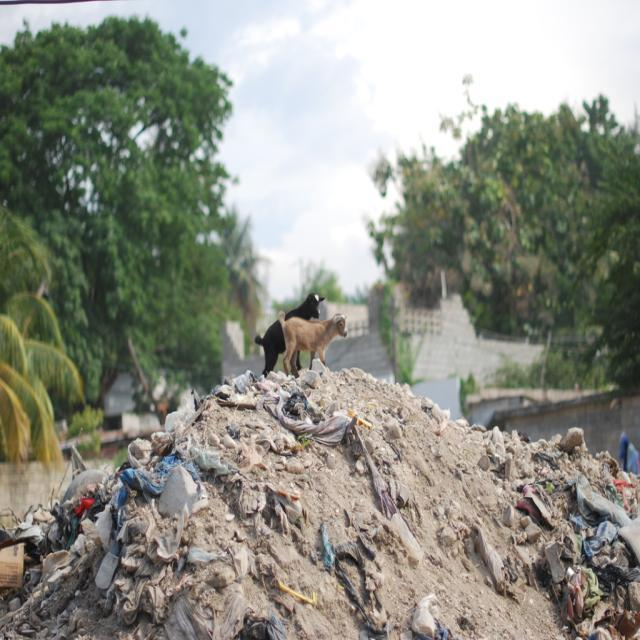Goat: (254, 292, 324, 378), (278, 310, 348, 378)
